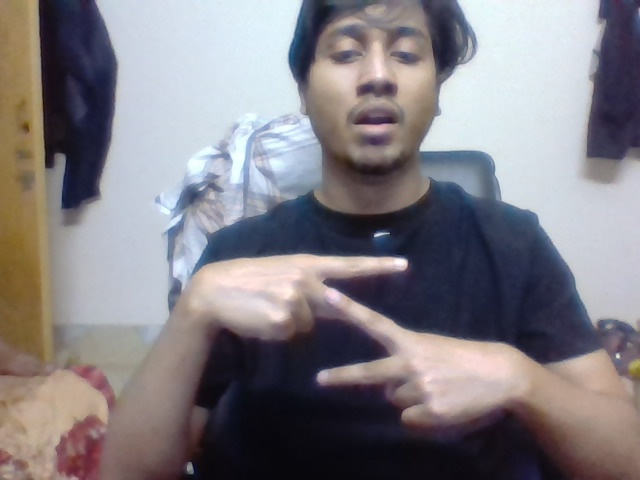Z: (312, 248, 413, 391)
